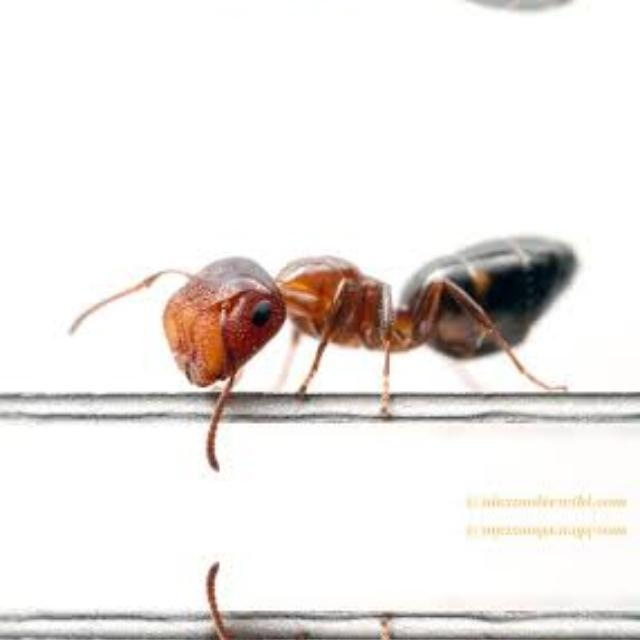Colobopsis: (88, 216, 638, 397)
